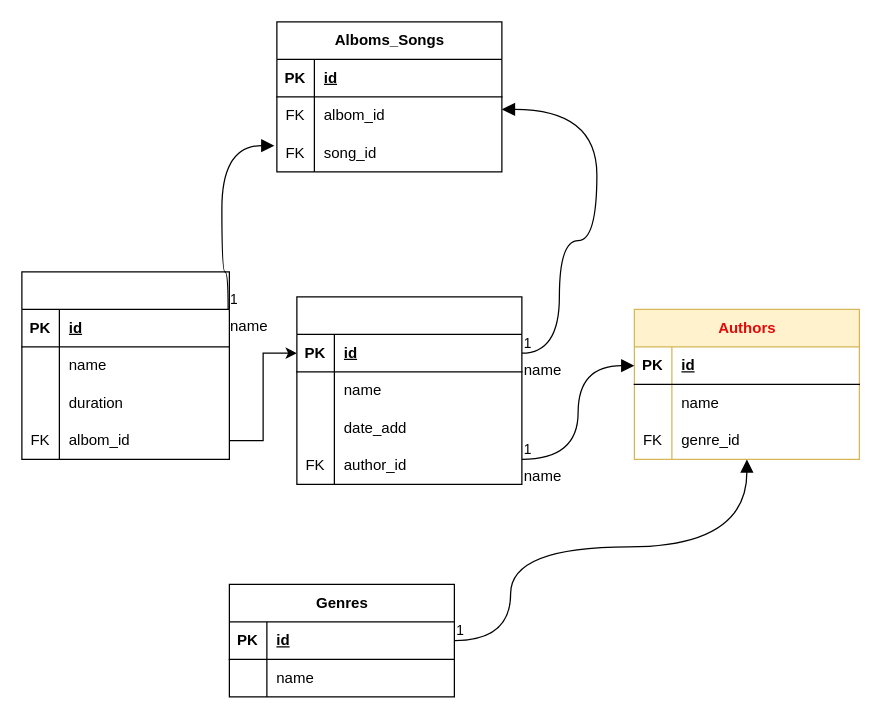
The diagram is 881 pixels wide and 719 high, and some of its shapes have lost their labels. The shapes that lost their labels are listed below. From the top down, each one's box as (x1, y1, x2, y2) in pixels, then its label:
(21, 271, 229, 459): Songs
(296, 296, 522, 484): Albom
